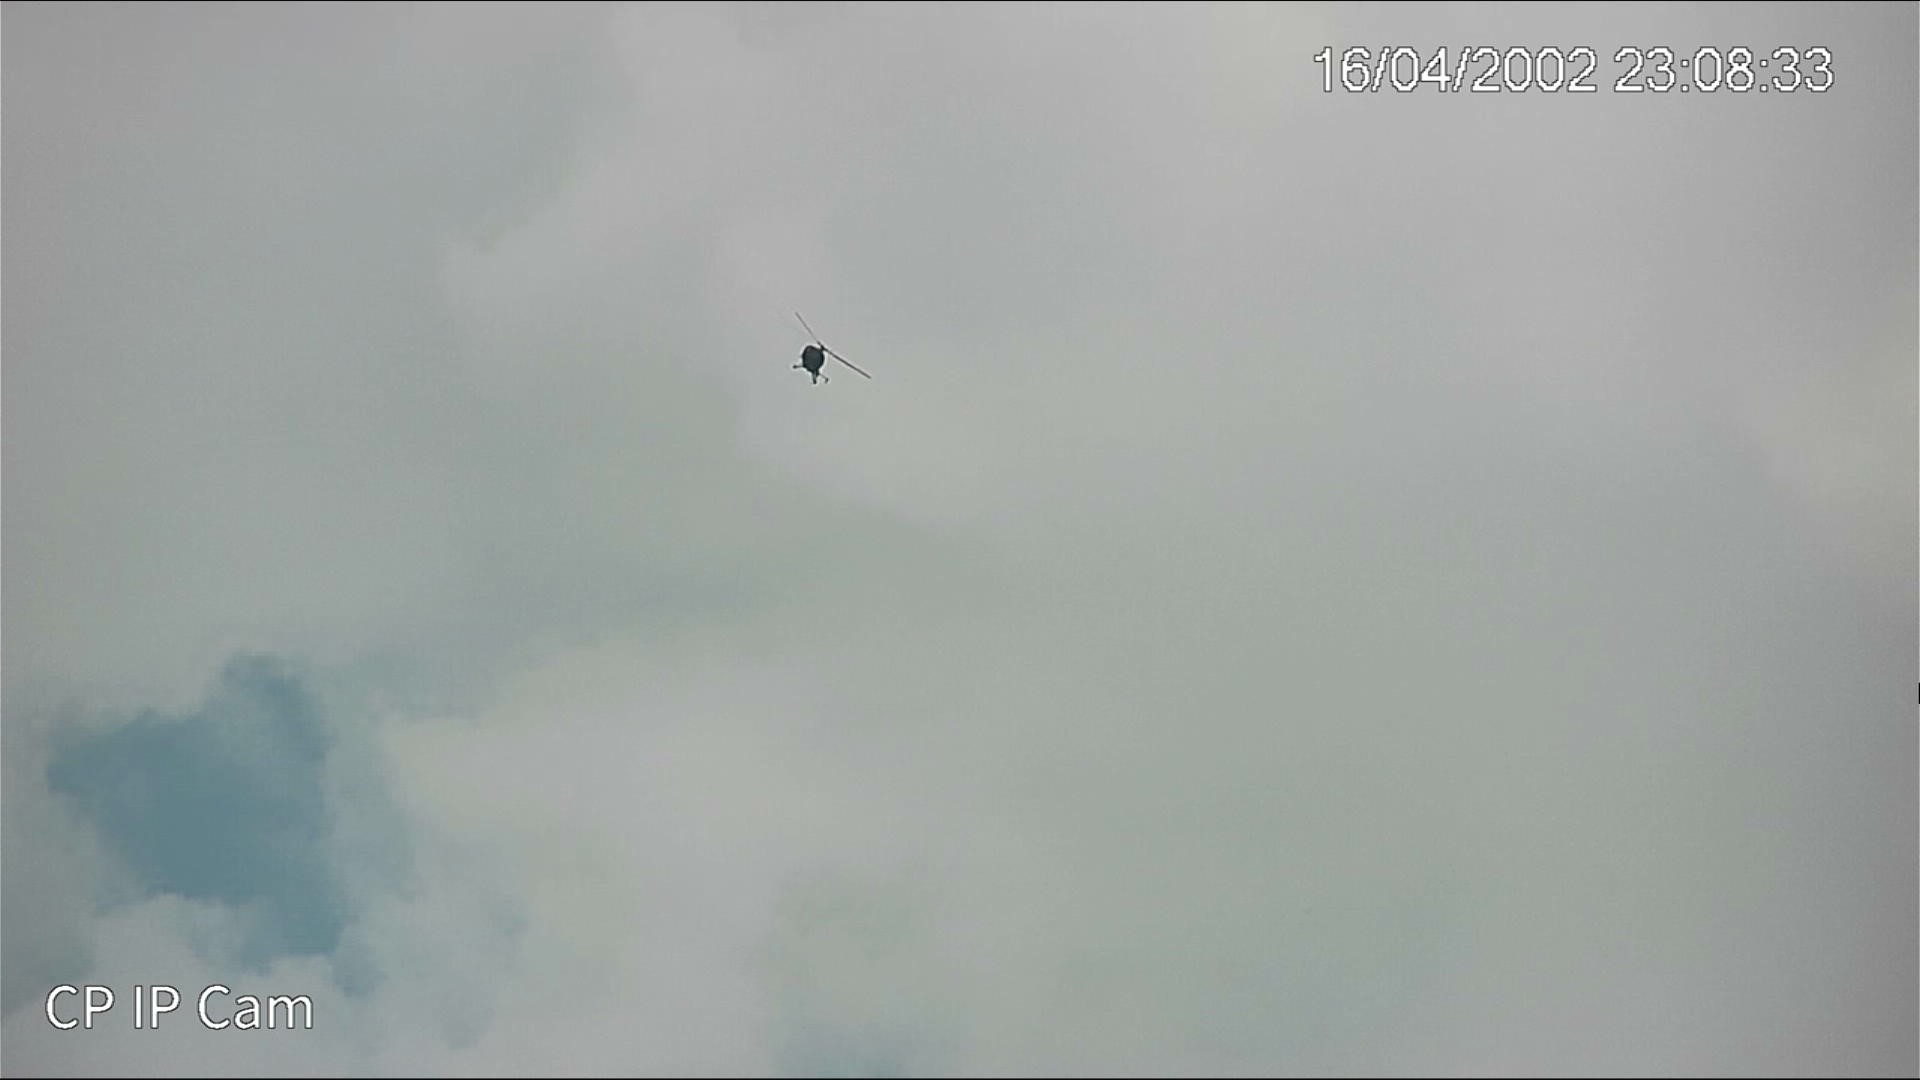SU_30: (793, 315, 839, 384)
